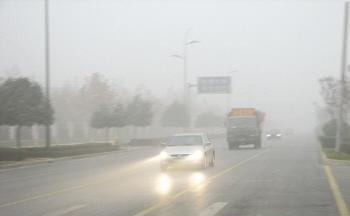bus: (224, 105, 267, 149)
car: (158, 131, 216, 169), (265, 127, 283, 141)
